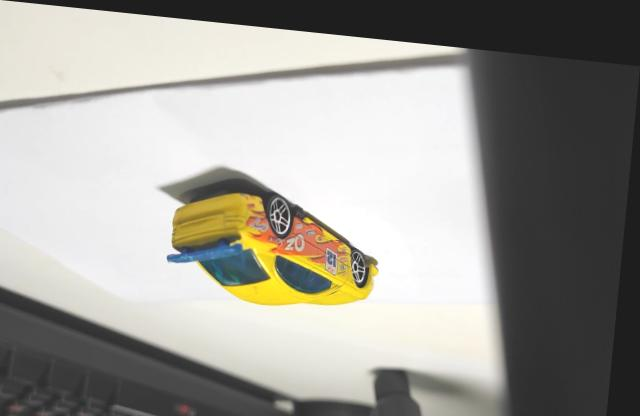02_OZSOME: (172, 184, 382, 299)
